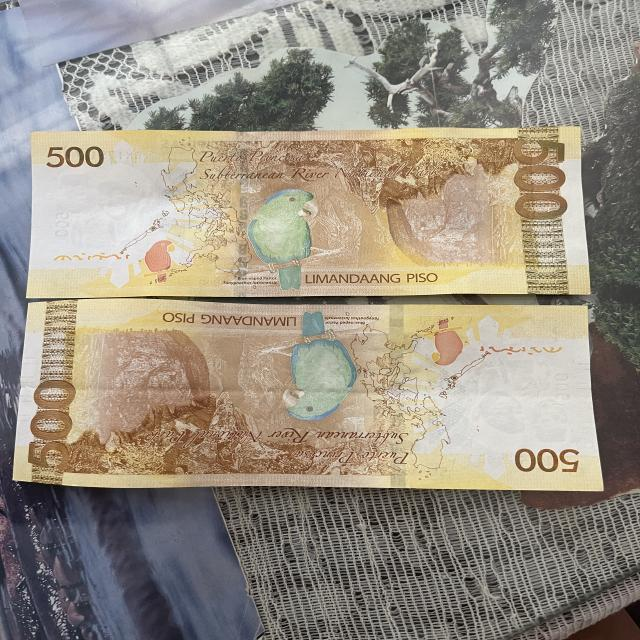500_big_parrot: (273, 310, 366, 422), (236, 185, 326, 291)
500_parrot_watermark: (423, 316, 470, 372), (136, 239, 191, 283)
value_watermark: (51, 210, 77, 240), (551, 371, 574, 399)
watermark: (473, 364, 588, 448), (50, 162, 153, 252)
